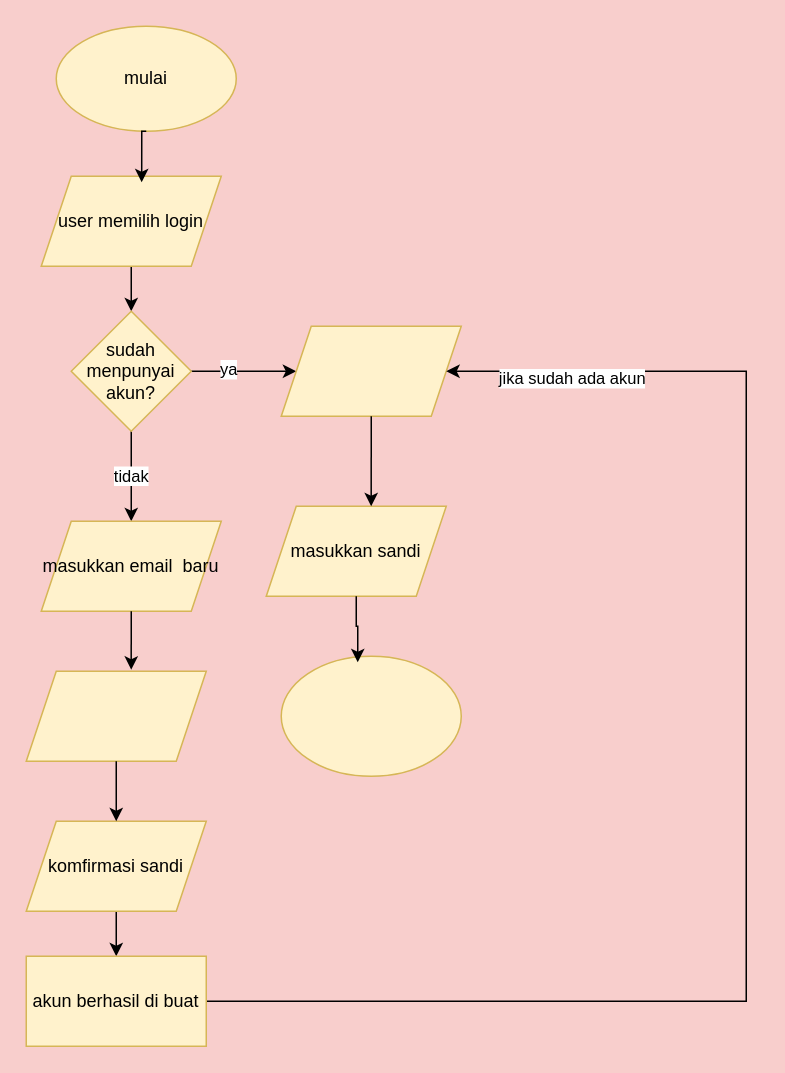
Some shapes in this 785 by 1073 pixel diagram are drawn without their labels. Each missing label, with the centre of its shape:
masukkan email: (x=370, y=370)
masukkan sandi baru: (x=115, y=715)
selesai: (x=370, y=715)
